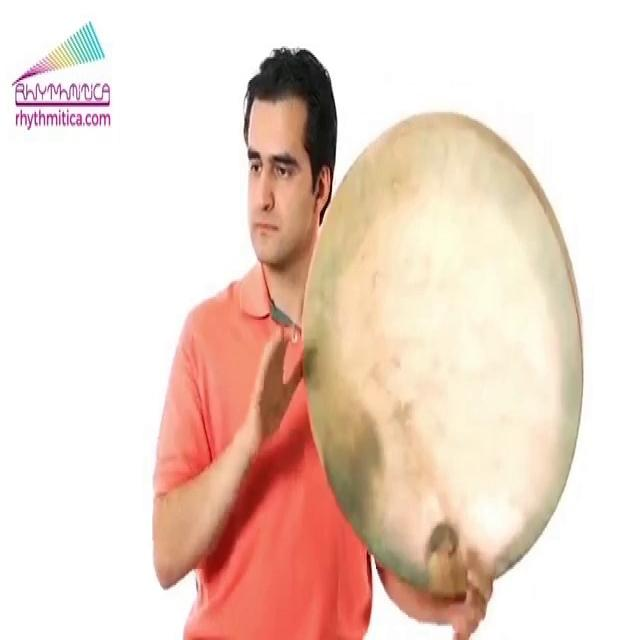Flute: (304, 109, 586, 590)
